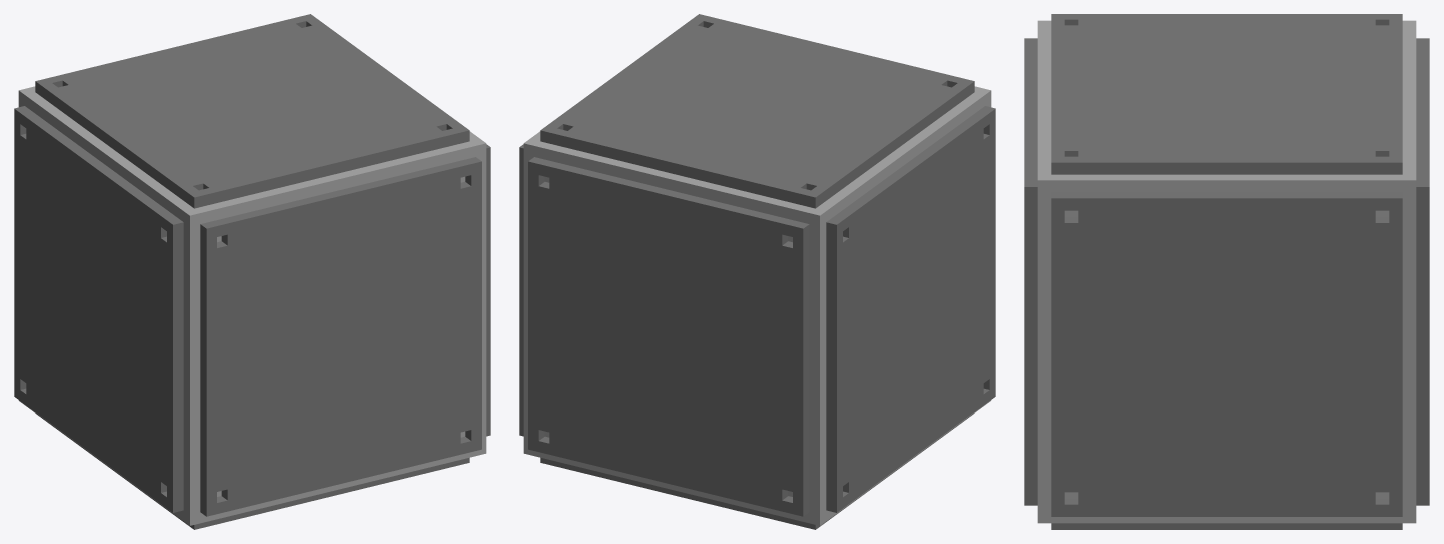
Rendered from metal box 2.obj.
3 renders of one model, left to right at view 1: azimuth 30°, elevation 25°; view 2: azimuth 150°, elevation 25°; view 3: azimuth 270°, elevation 25°, orthographic. The views are drawn at different scales.
Size of the model in its own units: 3 by 3 by 3.
1 material, 1 textured.
